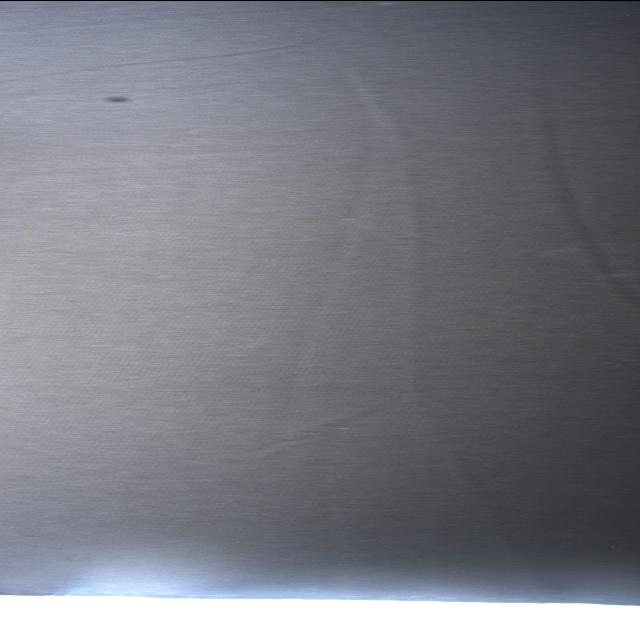crease: (322, 45, 519, 528), (264, 137, 368, 436), (533, 82, 632, 306), (242, 407, 380, 539), (9, 34, 333, 82), (8, 1, 362, 28)
